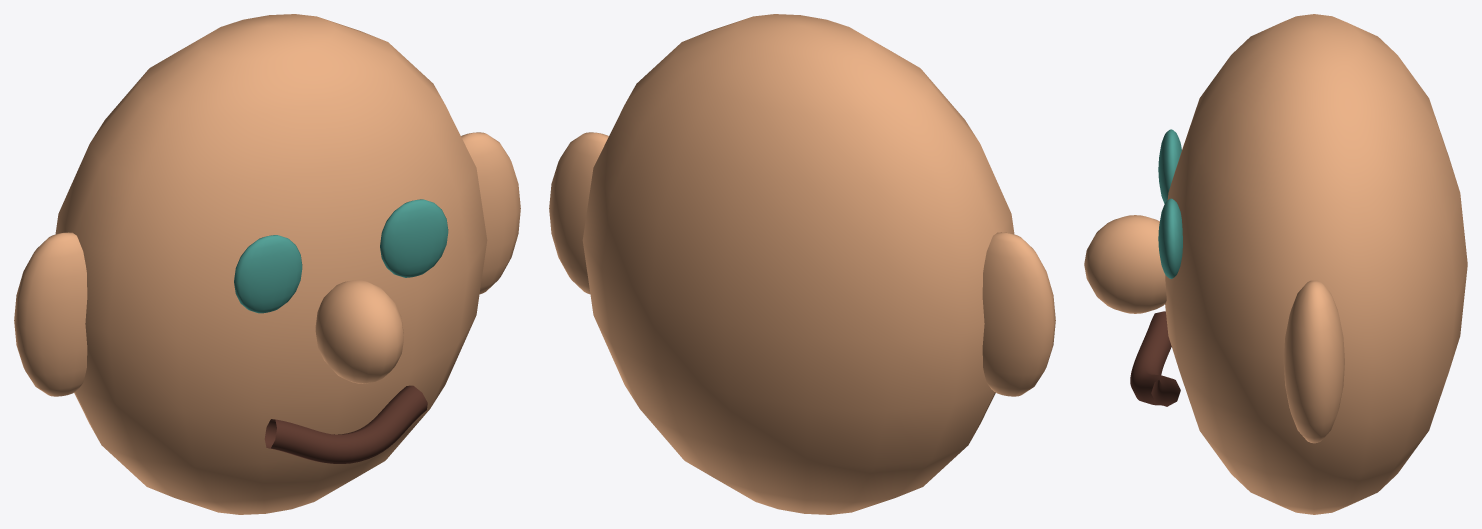
The model's file is word-eyes.glb.
The picture shows the model from 3 angles, left to right: view 1: azimuth 30°, elevation 25°; view 2: azimuth 150°, elevation 25°; view 3: azimuth 270°, elevation 25°; orthographic projection. The views are drawn at different scales.
Parts seen in each view (by area): view 1: head, ear, nose, mouth, ear.001, eye, eye.001; view 2: head, ear, ear.001; view 3: head, ear.001, nose, mouth, eye.001, eye.
Boxes of the visible parts, x1,y1,x2,y2 form: head: (55,14,487,514); ear: (14,232,87,396); nose: (315,280,403,383); mouth: (264,385,427,463); ear.001: (461,132,520,294); eye: (234,235,302,313); eye.001: (380,199,448,277); head: (582,14,1014,514); ear: (982,232,1055,396); ear.001: (549,132,608,294); head: (1165,14,1467,514); ear.001: (1283,280,1344,443); nose: (1084,215,1166,313); mouth: (1130,311,1180,406); eye.001: (1158,198,1182,278); eye: (1158,129,1181,203).
Size of the model in its own units: 1.1 by 1 by 0.75.
